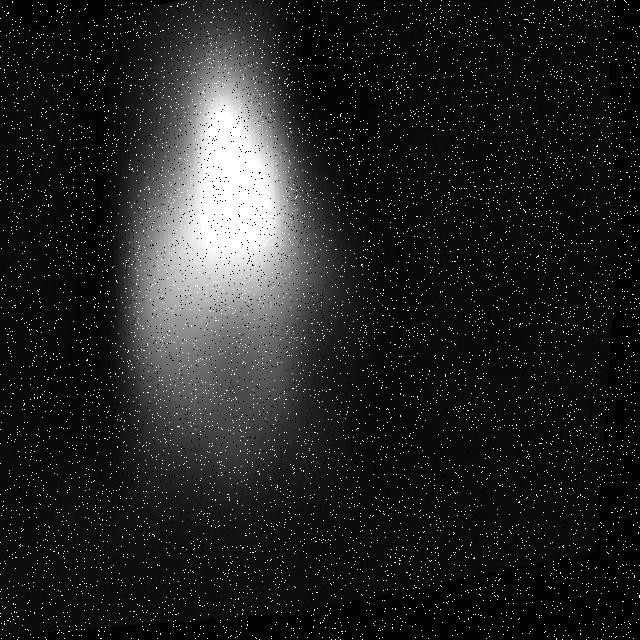person: (44, 1, 411, 539)
